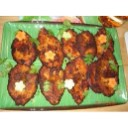seerfish: (88, 56, 122, 101), (4, 63, 39, 104), (37, 62, 66, 106), (36, 27, 64, 68), (65, 59, 89, 104), (10, 30, 37, 66), (62, 22, 80, 59), (95, 27, 116, 55), (77, 30, 97, 59)
